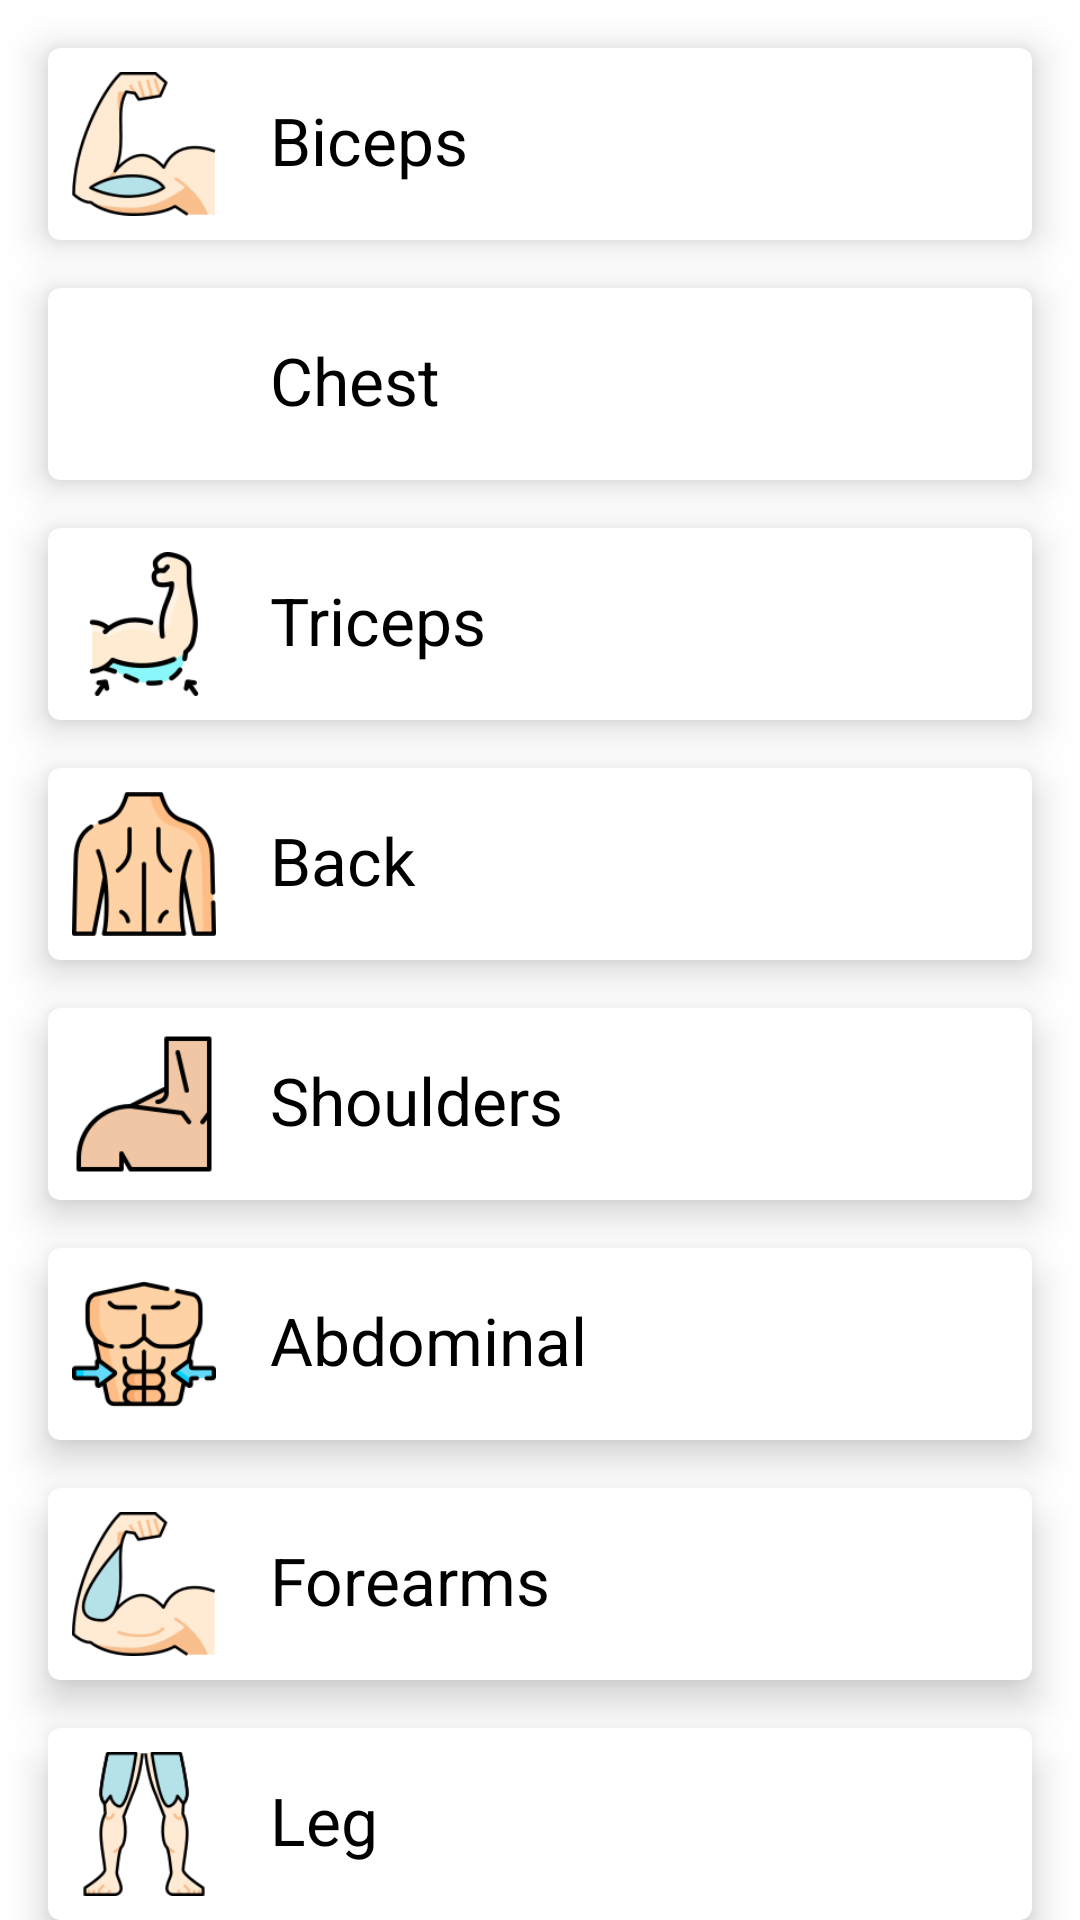

Named icons in this screenshot (1080x1920) and their bounding boxes, [left=x1, top=y1, right=x2, bottom=y2]:
abs: [left=72, top=1282, right=216, bottom=1407]
liposuction: [left=48, top=528, right=240, bottom=720]
